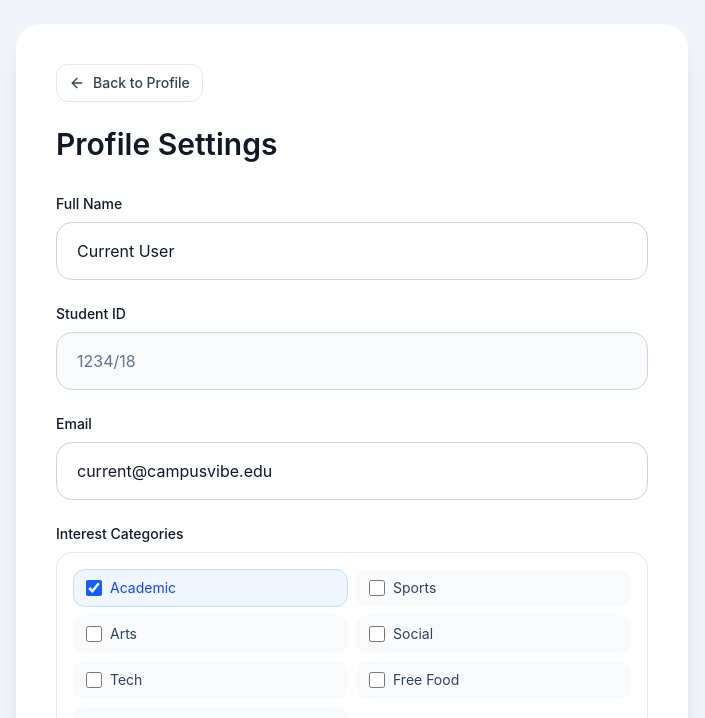
Test: ProfileSettings › submits updated profile fields and shows success feedback
Replace the text in the field named "name" below "Full Name" with "Updated User". click: (352, 251)
box: top-left (56, 222), bottom-right (648, 280)
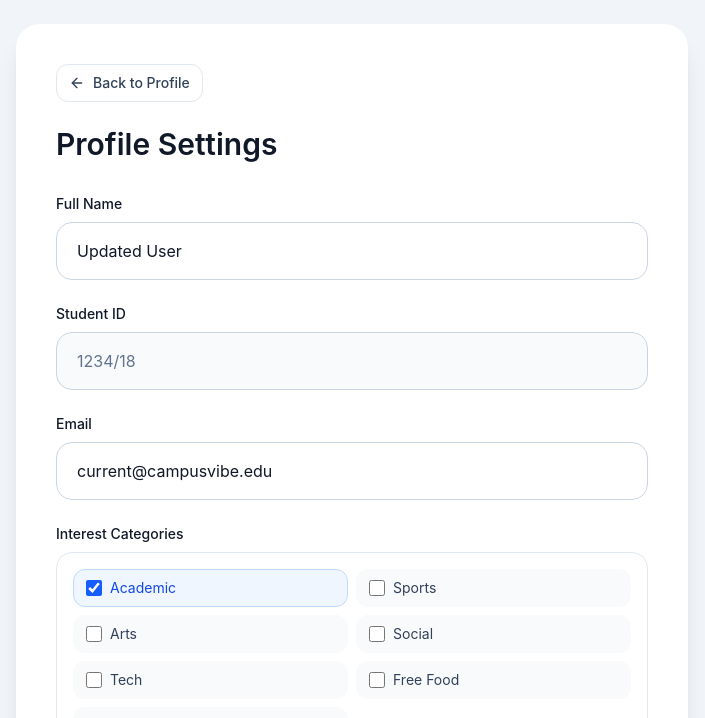
Replace the text in the field named "email" below "Email" with "updated@campusvibe.edu". click: (352, 471)
box: top-left (56, 442), bottom-right (648, 500)
(page scrolled)
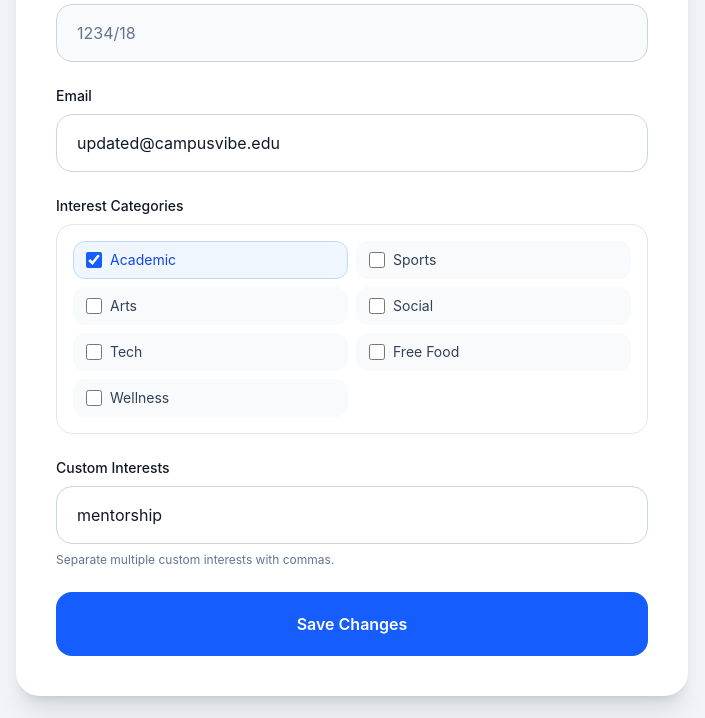
Click the button "Save Changes". click: (352, 624)
box: top-left (56, 592), bottom-right (648, 656)
(page scrolled)
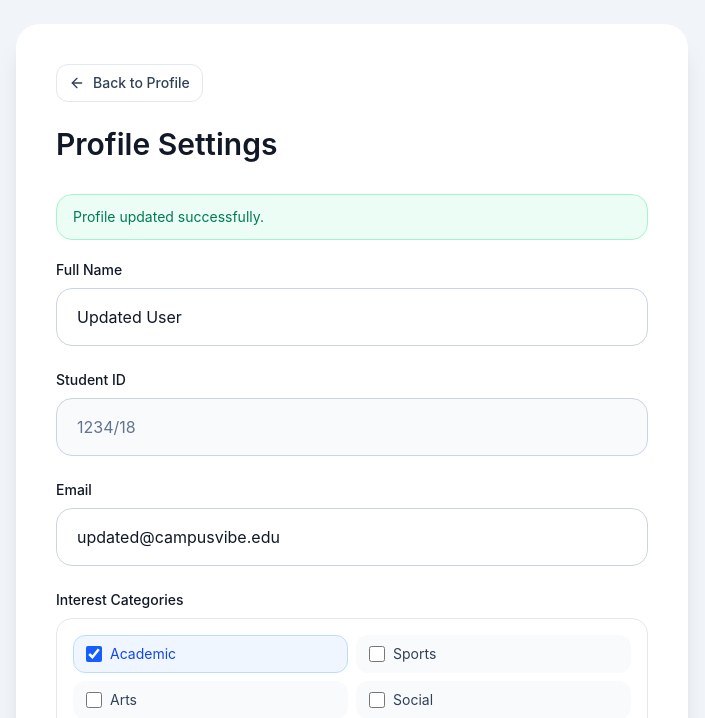
Check: the text "Profile updated successfully." is shown, box top-left (56, 194), bottom-right (648, 240)
